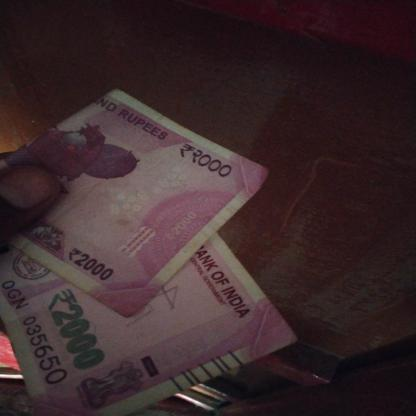New2000Back: (2, 99, 233, 286)
